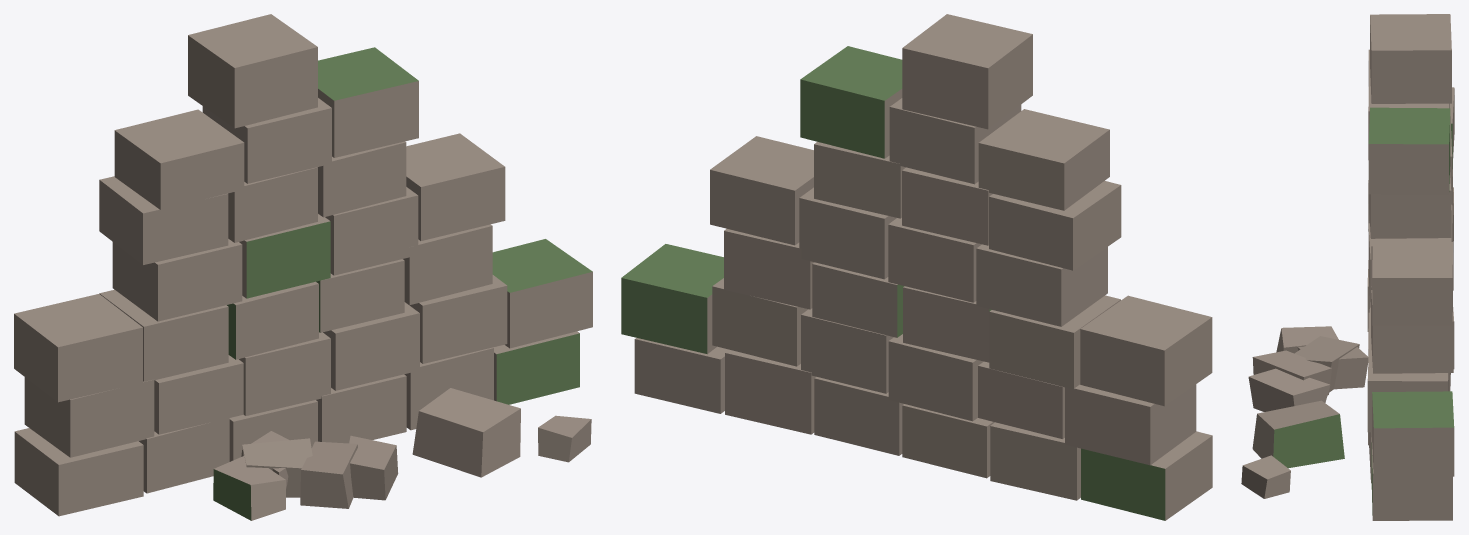
The model's file is edge_ruin_wall.glb.
3 renders of one model, left to right at view 1: azimuth 30°, elevation 25°; view 2: azimuth 150°, elevation 25°; view 3: azimuth 270°, elevation 25°, orthographic. The views are drawn at different scales.
Visible parts, largest first — view 1: edge_ruin_wall; view 2: edge_ruin_wall; view 3: edge_ruin_wall.
Part boxes in pixels (bbox=[...]): edge_ruin_wall: bbox=[14, 14, 592, 520]; edge_ruin_wall: bbox=[621, 14, 1212, 520]; edge_ruin_wall: bbox=[1241, 14, 1454, 520].
Size of the model in its own units: 4.09 by 2.94 by 1.59.
